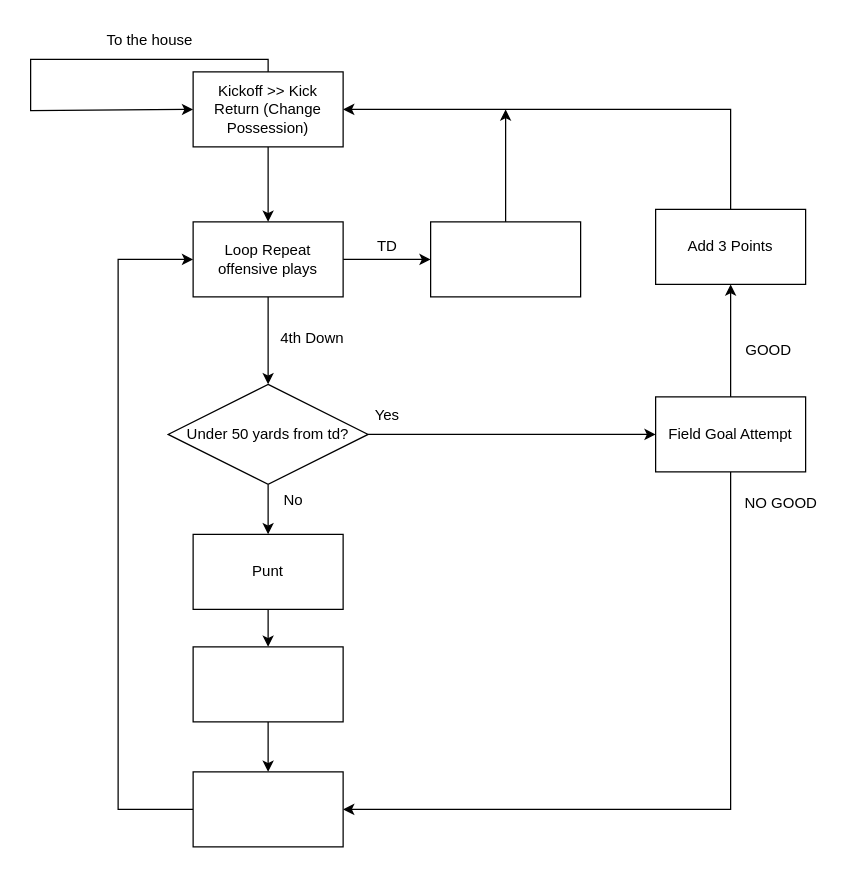
This 853x869 diagram has some shape labels left out. Here are the shapes that lost their labels. From the top down, the box of each, then its label:
(429, 221, 581, 297): Add 7 Points
(192, 646, 343, 722): Move ball distance of the punt
(192, 771, 343, 847): Change possession
